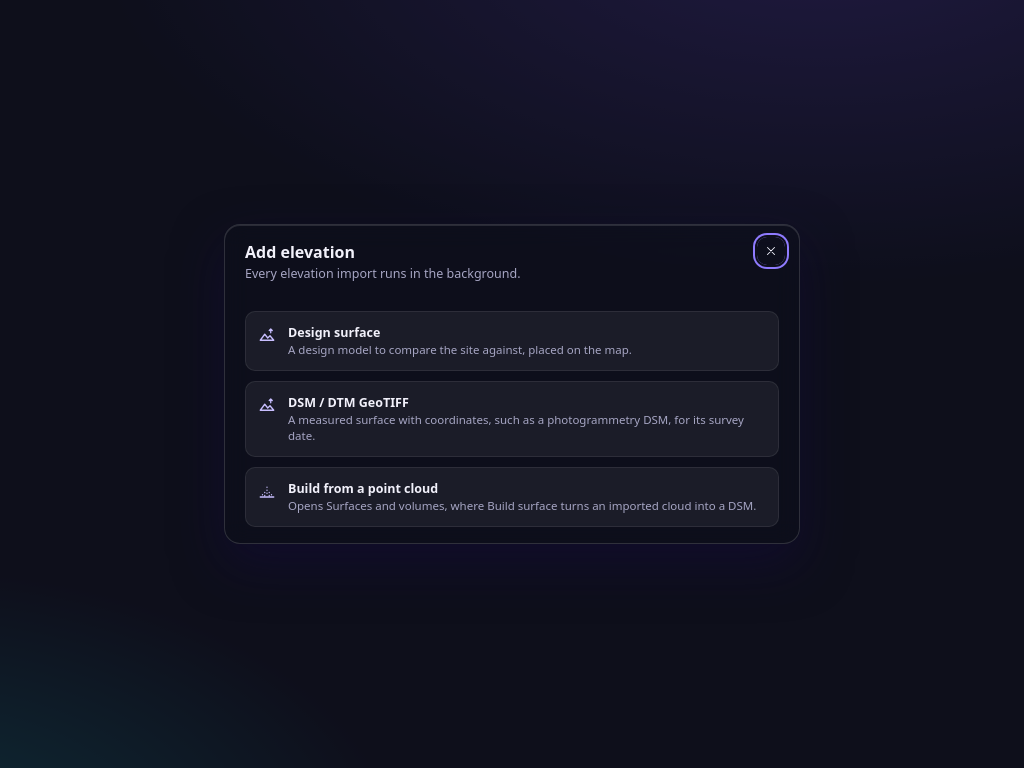
Scenario: ImportElevationDialog — DSM / DTM GeoTIFF (M §7) › refuses a non-GeoTIFF before posting, and Back returns to the chooser
Click the button "DSM / DTM GeoTIFF".
click(512, 419)  # box x1=245 y1=381 x2=779 y2=457
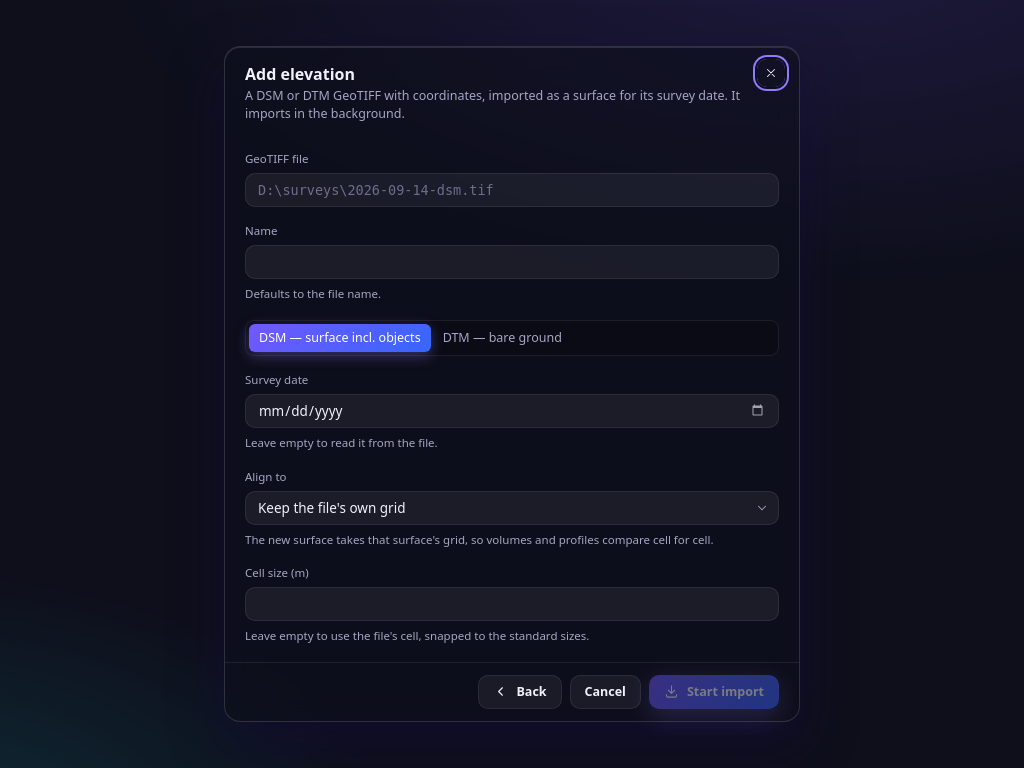
Type "D:\\ortho.jpg" into the field labelled "GeoTIFF file".
click(512, 190); type("D:\\ortho.jpg")  # box x1=245 y1=173 x2=779 y2=207
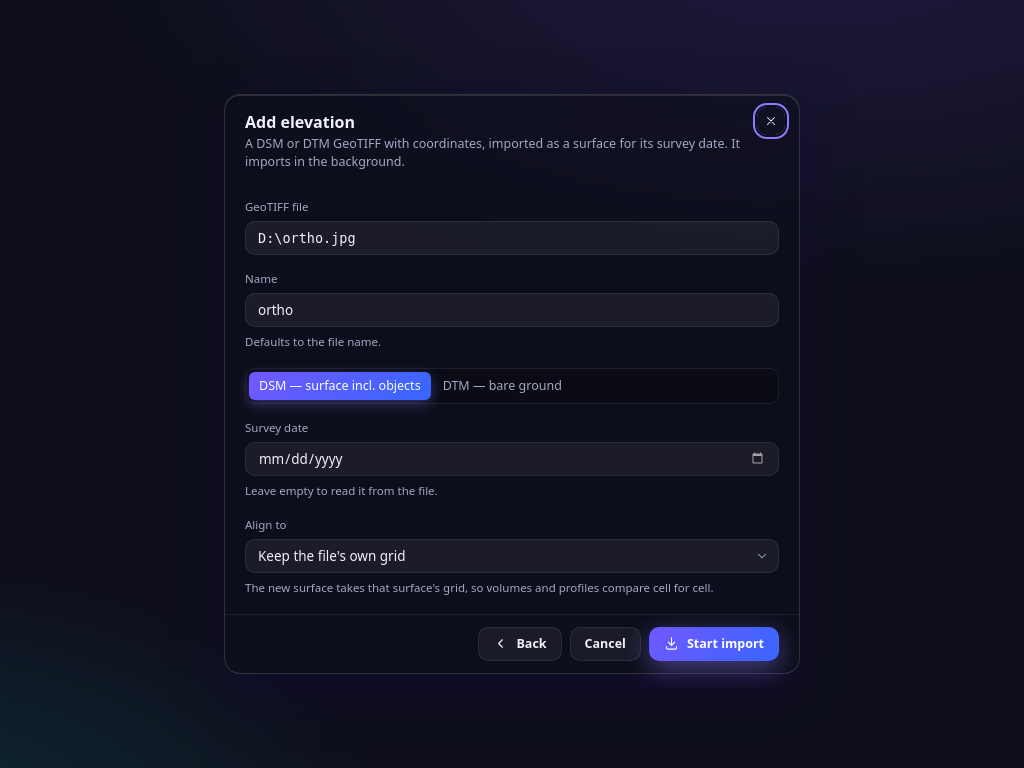
Click the button "Start import".
click(714, 644)  # box x1=649 y1=626 x2=779 y2=660
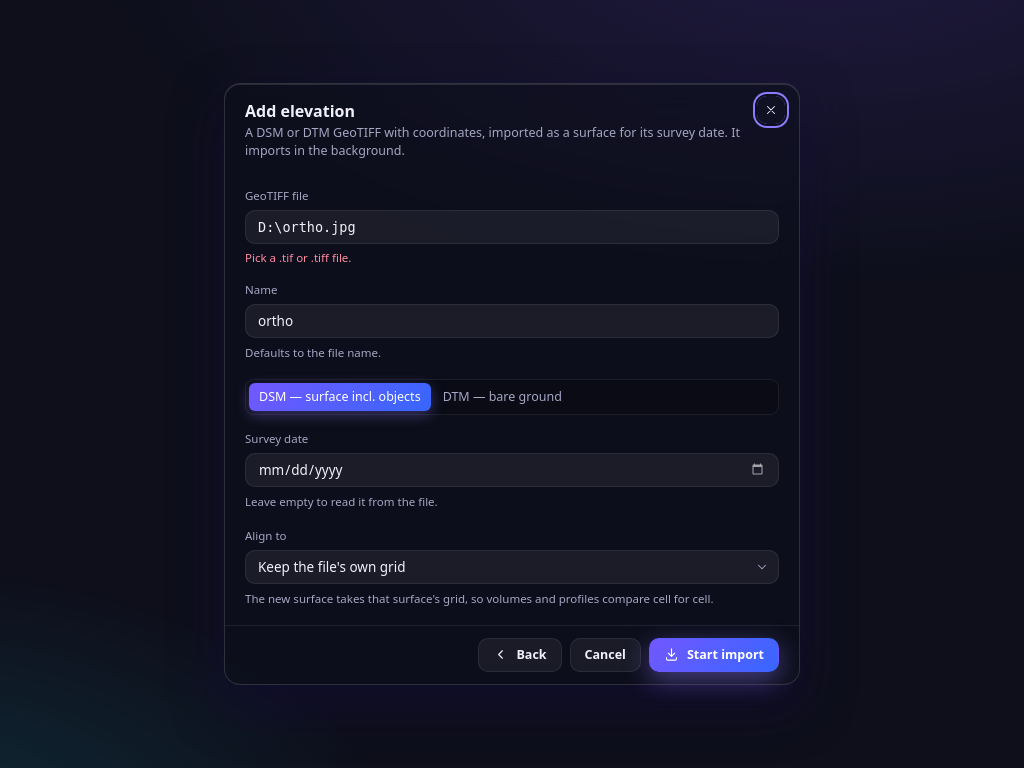
expect the text "Pick a .tif or .tiff file." is shown: met, box x1=245 y1=250 x2=351 y2=266
Click the button "Back".
click(520, 654)  # box x1=478 y1=638 x2=562 y2=672
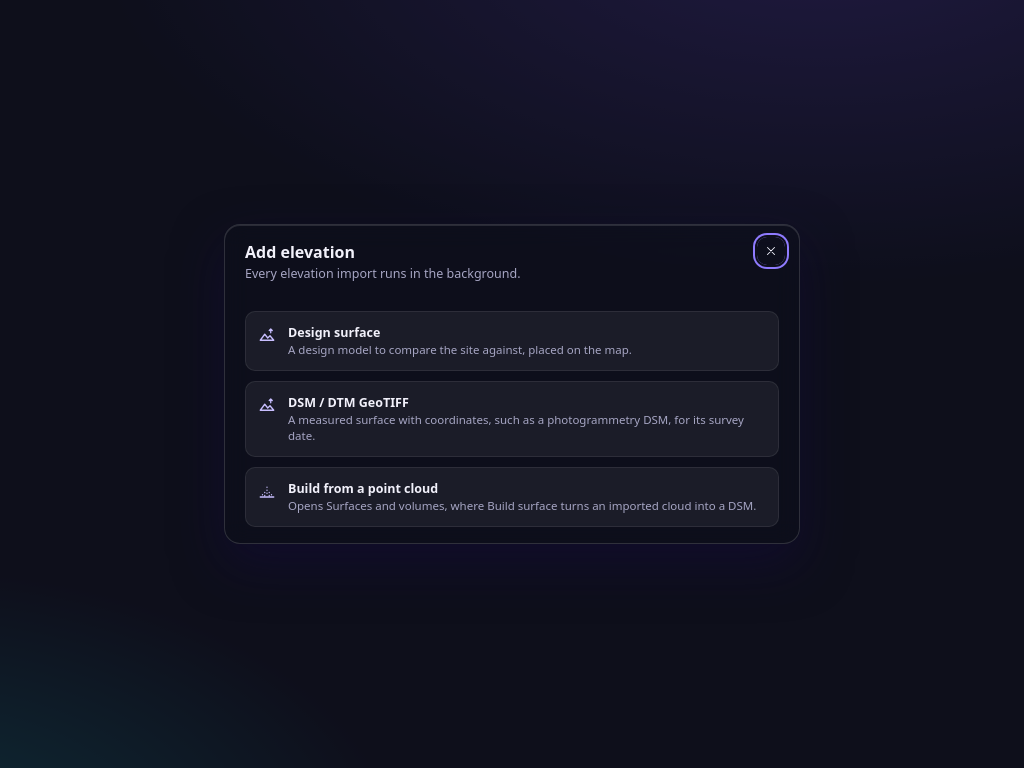
expect the button "Design surface" is shown: met, box x1=245 y1=311 x2=779 y2=371
